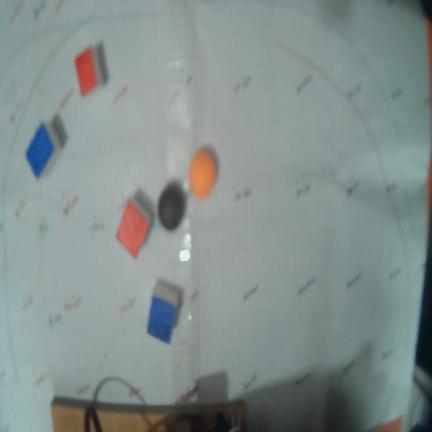circle_blue: (158, 181, 186, 230)
circle_orange: (189, 150, 216, 198)
rectangle_blue: (27, 127, 54, 178)
rectangle_orange: (75, 48, 99, 95)
square_blue: (147, 294, 179, 345)
square_orange: (115, 199, 152, 259)
